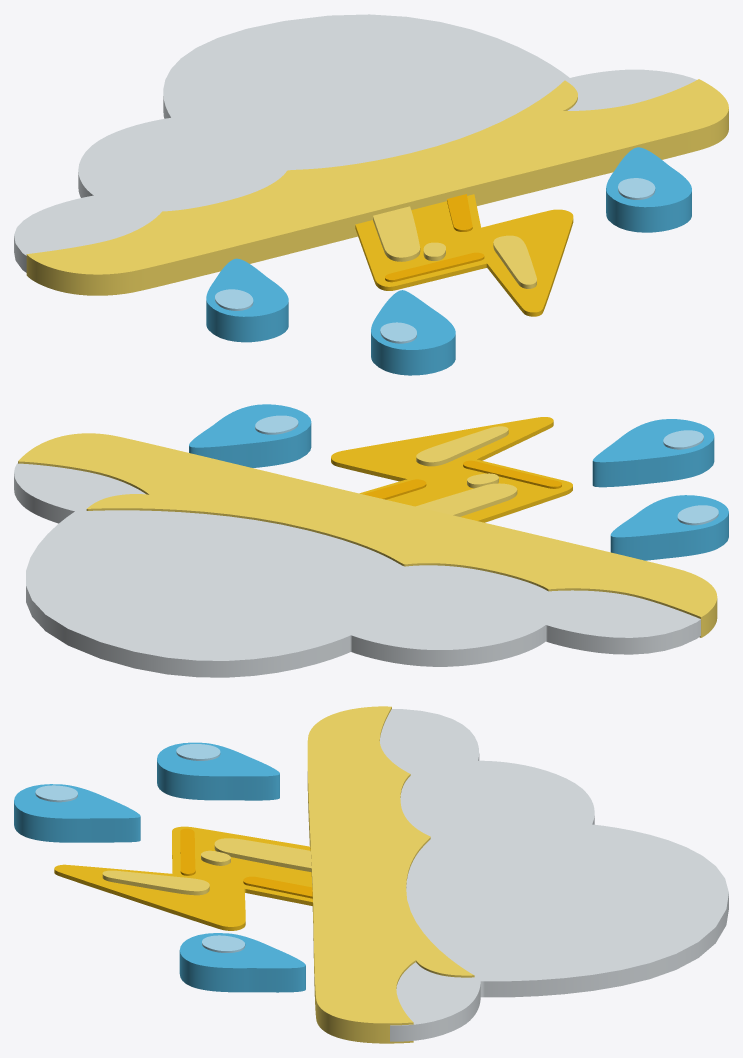
The model's file is emoji_u26c8.glb.
3 views of the same model, one above another, from view 1: azimuth 30°, elevation 25°; view 2: azimuth 150°, elevation 25°; view 3: azimuth 270°, elevation 25° (orthographic). The views are drawn at different scales.
Parts seen in each view (by area): view 1: emoji_u26c8; view 2: emoji_u26c8; view 3: emoji_u26c8.
Part boxes in pixels (x1,y1,x2,y2): emoji_u26c8: [14, 14, 728, 375]; emoji_u26c8: [14, 404, 728, 677]; emoji_u26c8: [14, 706, 728, 1043].
Bounding box in the file's own units: 0.0339 × 0.0014 × 0.0323.
